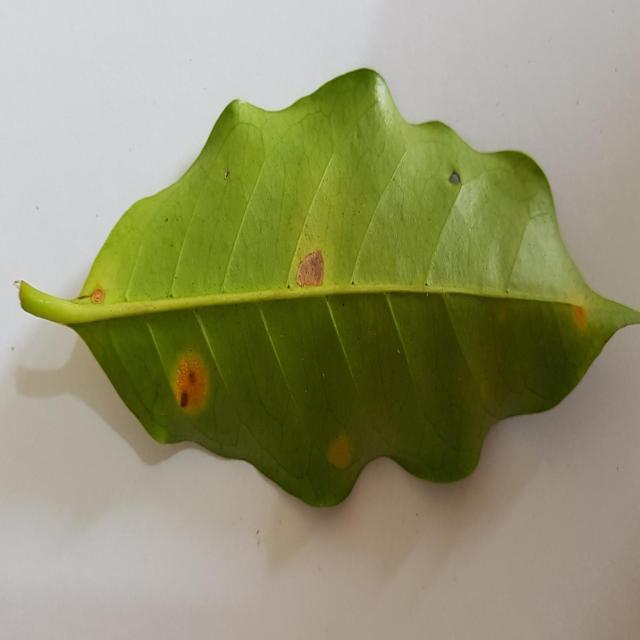miner: (287, 238, 331, 291)
rust: (172, 350, 211, 413), (327, 429, 357, 470), (571, 280, 592, 336)
